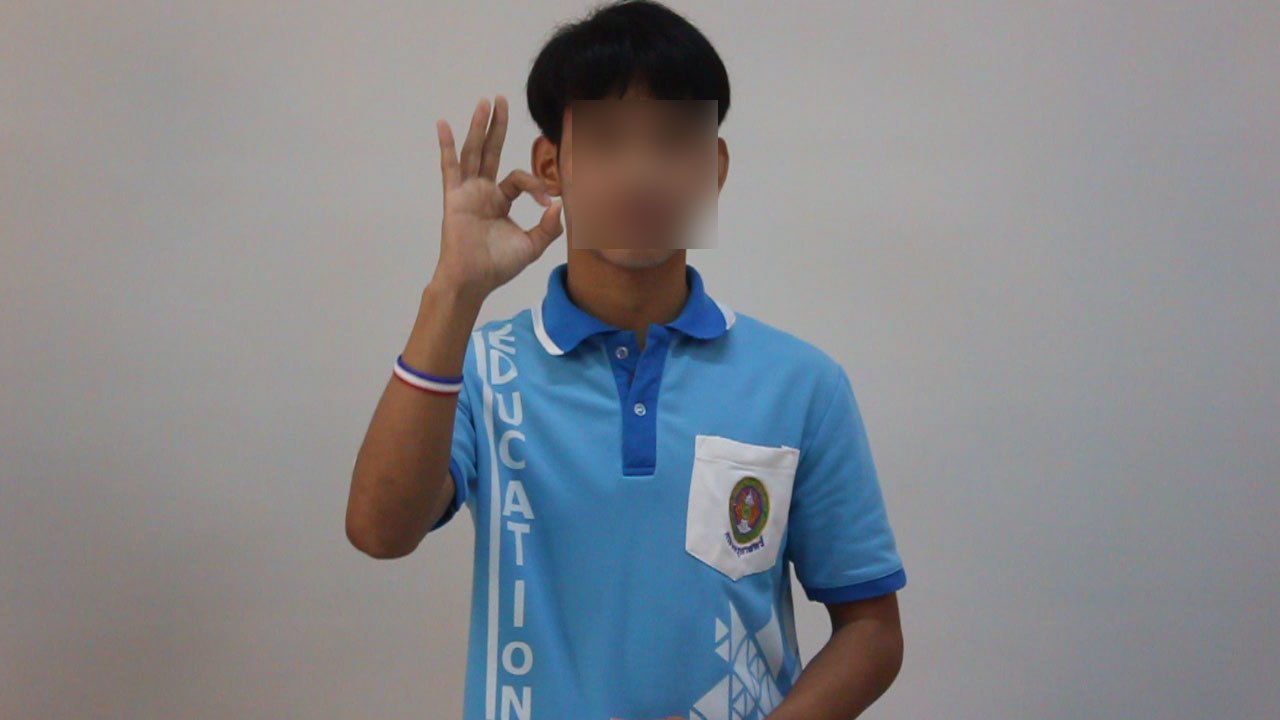for: (405, 85, 577, 311)
